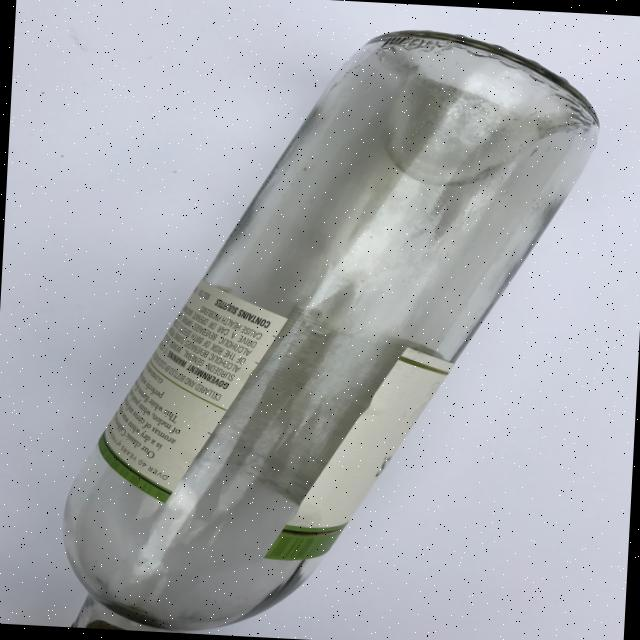glass: (68, 10, 585, 640)
